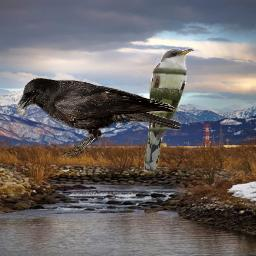Crow: (14, 77, 182, 158)
Cuckoo: (144, 48, 195, 173)
